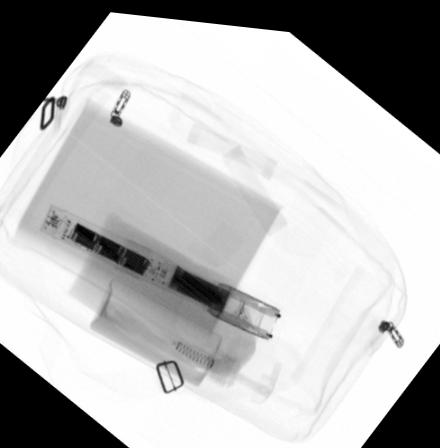Baton: (36, 201, 283, 336)
